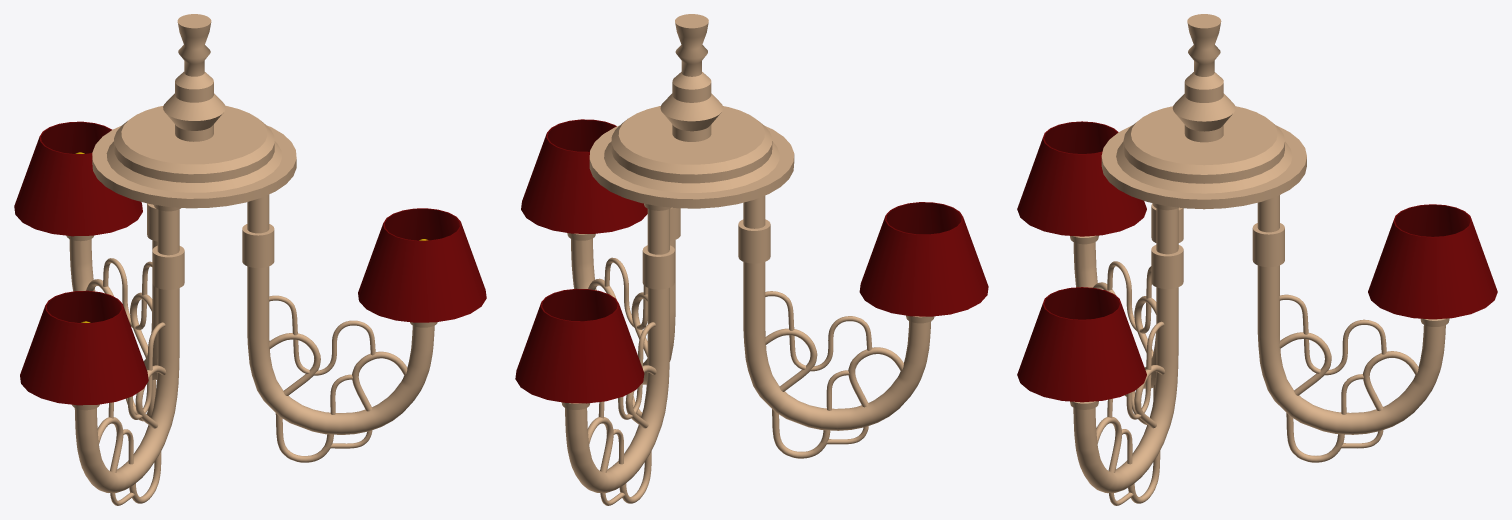
The model's file is Lustre1_3.fbx.
3 renders of one model, left to right at view 1: azimuth 30°, elevation 25°; view 2: azimuth 150°, elevation 25°; view 3: azimuth 270°, elevation 25°, orthographic.
Parts seen in each view (by area): view 1: pCylinder903, pPipe156, pPipe155, pCylinder1057, pPipe157, pCylinder1070, pCylinder1082, pCylinder1062, pCylinder1063, pCylinder1047, pCylinder1061, pCylinder1031; view 2: pCylinder903, pPipe157, pPipe155, pCylinder1070, pCylinder1082, pPipe156, pCylinder1057, pCylinder1067, pCylinder1068, pCylinder1062, pCylinder1071, pCylinder1073 (+1 smaller); view 3: pCylinder903, pPipe157, pPipe156, pCylinder1082, pPipe155, pCylinder1057, pCylinder1070, pCylinder1042, pCylinder1051, pCylinder1052, pCylinder1049, pCylinder1047.
Boxes of the visible parts, box(x1,y1,x2,y2) form: pCylinder903: box(92, 14, 296, 208); pPipe156: box(358, 208, 486, 322); pPipe155: box(20, 290, 148, 405); pCylinder1057: box(242, 194, 434, 434); pPipe157: box(14, 121, 142, 236); pCylinder1070: box(74, 204, 184, 492); pCylinder1082: box(69, 203, 157, 384); pCylinder1062: box(293, 320, 375, 375); pCylinder1063: box(269, 333, 320, 395); pCylinder1047: box(352, 351, 407, 411); pCylinder1061: box(275, 413, 333, 462); pCylinder1031: box(97, 417, 123, 472); pCylinder903: box(589, 14, 794, 208); pPipe157: box(515, 288, 644, 403); pPipe155: box(859, 202, 988, 316); pCylinder1070: box(738, 195, 931, 430); pCylinder1082: box(565, 203, 674, 492); pPipe156: box(521, 119, 647, 233); pCylinder1057: box(571, 207, 680, 384); pCylinder1067: box(789, 316, 870, 371); pCylinder1068: box(765, 328, 815, 391); pCylinder1062: box(604, 257, 647, 329); pCylinder1071: box(848, 347, 903, 407); pCylinder1073: box(772, 409, 828, 458); pCylinder903: box(1101, 14, 1306, 209); pPipe157: box(1368, 204, 1497, 319); pPipe156: box(1017, 287, 1146, 402); pCylinder1082: box(1252, 195, 1445, 434); pPipe155: box(1017, 121, 1146, 236); pCylinder1057: box(1073, 203, 1183, 493); pCylinder1070: box(1073, 203, 1183, 388); pCylinder1042: box(1304, 320, 1386, 375); pCylinder1051: box(1279, 332, 1331, 395); pCylinder1052: box(1363, 351, 1418, 410); pCylinder1049: box(1286, 413, 1344, 462); pCylinder1047: box(1096, 417, 1122, 472).
Bounding box in the file's own units: 52.96 × 49.35 × 48.78.
